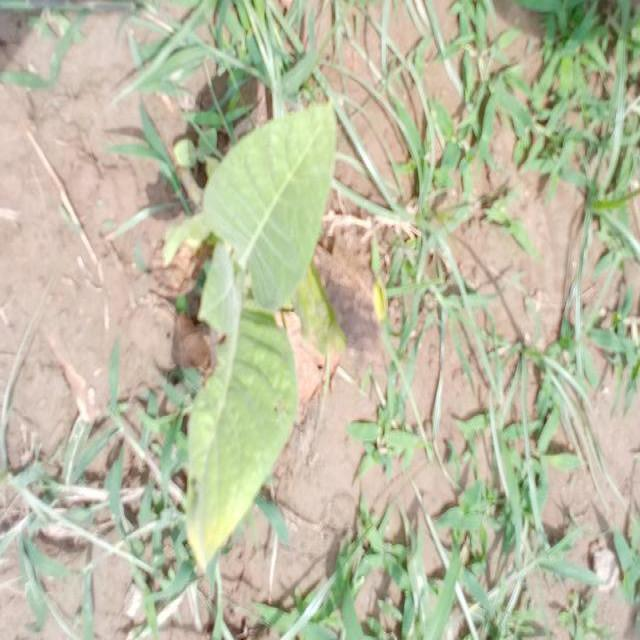crop: (186, 80, 342, 572), (184, 82, 340, 571)
